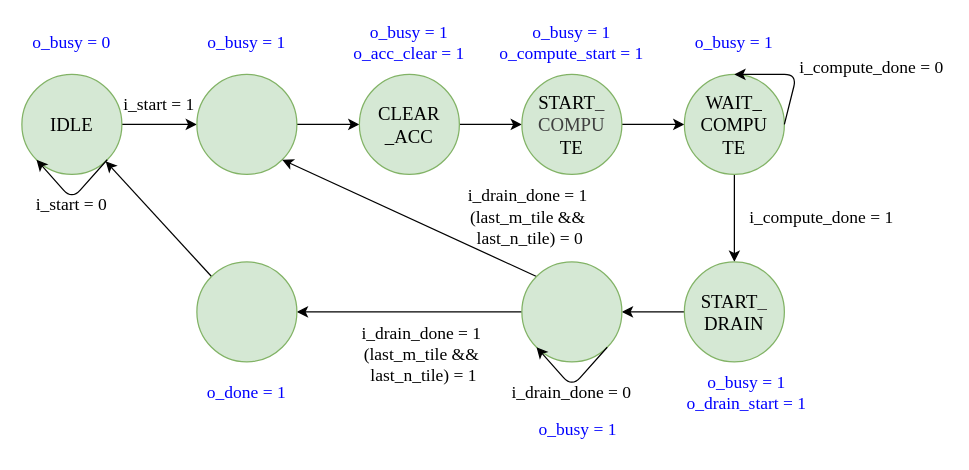
Some shapes in this 969 by 470 pixel diagram are drawn without their labels. The centre of each missing label's shape, as x and y in pixels:
"DONE" goes at point (246, 311).
"PREP _TILE" goes at point (246, 123).
"WAIT _ DRAIN" goes at point (571, 311).
